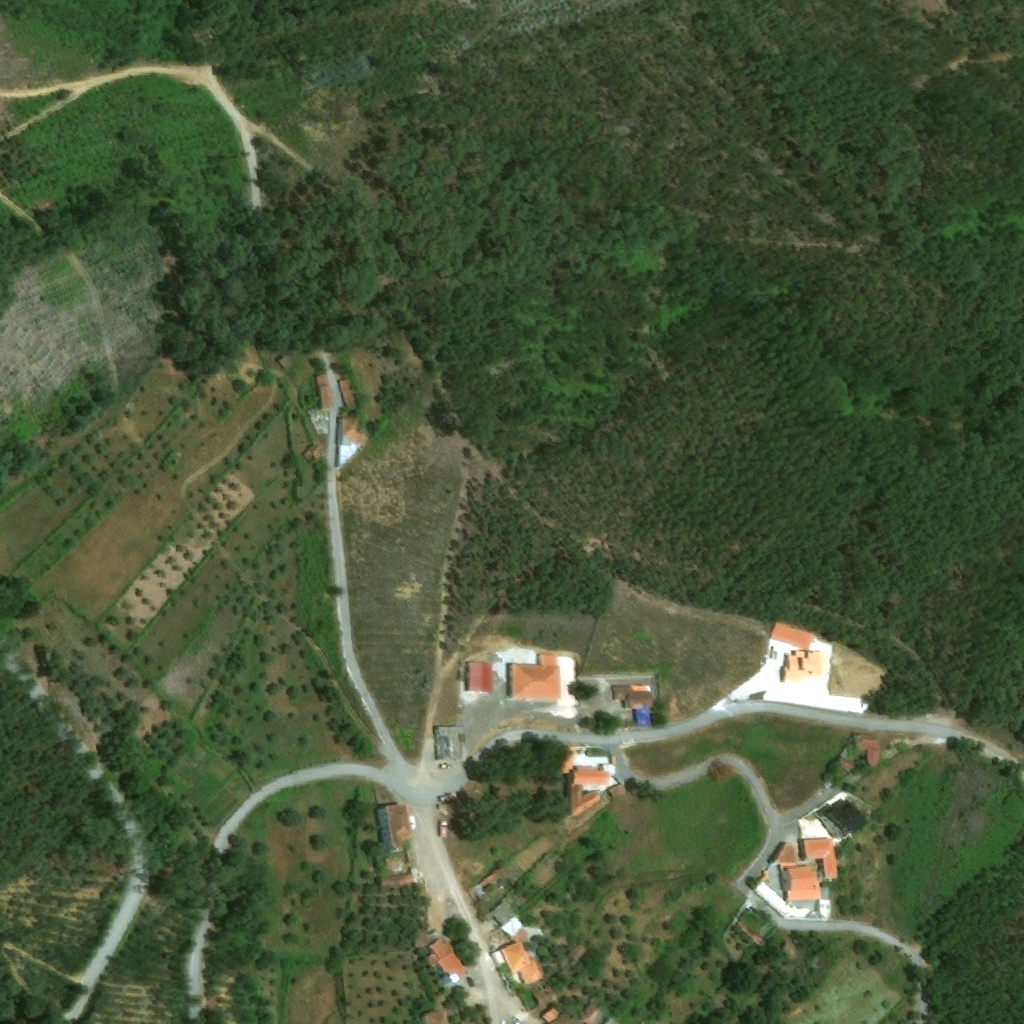0 no-damage: (768, 838, 839, 901), (816, 793, 875, 840), (567, 764, 617, 818), (508, 653, 562, 700), (490, 941, 545, 986), (424, 939, 470, 985), (375, 804, 413, 854), (781, 650, 827, 684), (336, 417, 365, 468), (770, 621, 815, 649), (491, 899, 526, 934), (432, 727, 465, 762), (851, 732, 884, 766), (613, 685, 657, 709), (464, 660, 493, 694), (735, 918, 764, 947), (316, 373, 334, 410), (338, 378, 356, 411), (580, 1002, 603, 1023), (380, 873, 414, 886), (780, 941, 800, 962), (302, 445, 323, 465), (566, 943, 587, 962), (836, 754, 857, 772), (422, 1010, 449, 1023), (547, 1014, 586, 1023), (540, 1006, 560, 1023), (561, 746, 573, 773), (819, 900, 831, 919)
